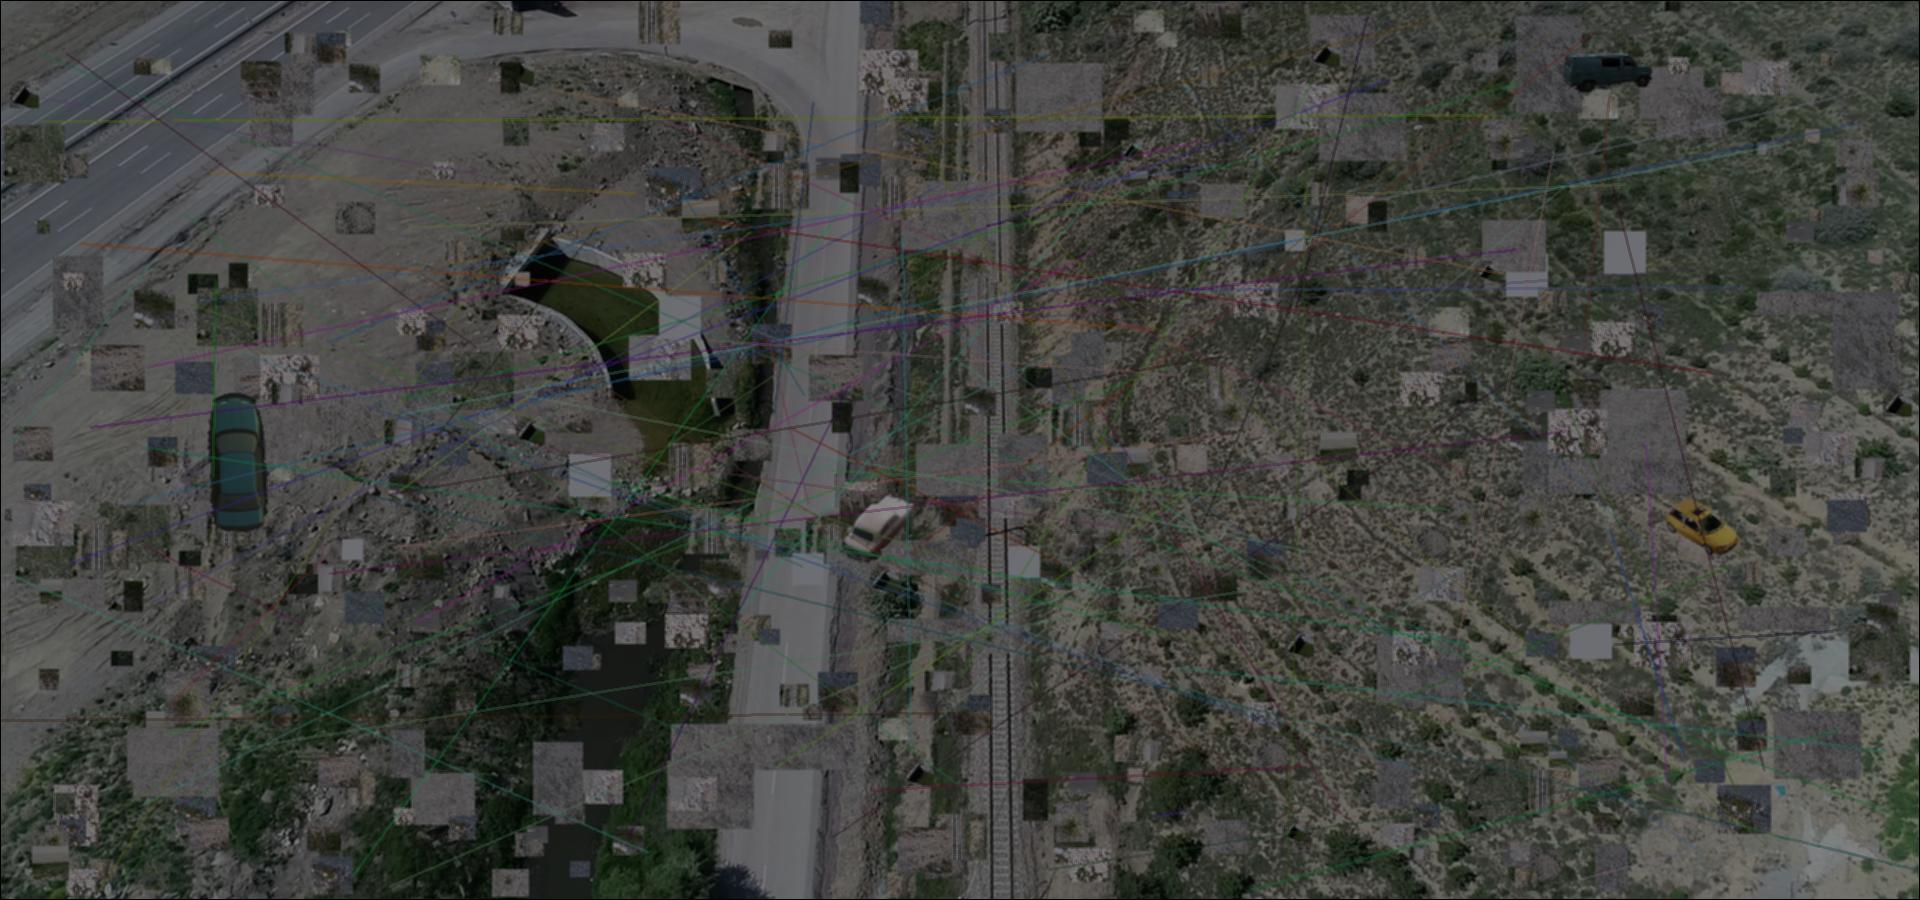arac: (204, 392, 273, 534), (838, 489, 920, 564), (1667, 497, 1739, 557), (1562, 51, 1653, 93)
